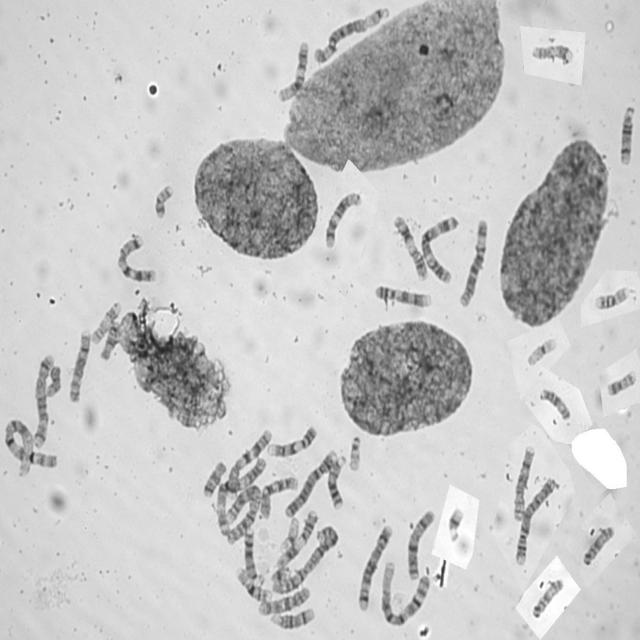A1: (378, 559, 432, 628), (2, 416, 60, 478)
A2: (269, 522, 341, 595), (223, 482, 263, 546)
A3: (215, 455, 267, 538), (418, 212, 460, 285)
B4: (512, 473, 556, 568), (282, 446, 339, 519)
B5: (356, 520, 394, 612), (31, 350, 55, 450)
C10: (258, 474, 298, 520), (256, 584, 311, 616)
C11: (274, 506, 320, 568), (391, 212, 429, 281)
C12: (322, 189, 363, 250), (276, 38, 310, 104)
C6: (457, 216, 490, 308), (314, 18, 366, 66)
C7: (223, 426, 274, 500), (114, 232, 158, 285)
C8: (66, 325, 92, 405), (511, 442, 536, 523)
C9: (265, 422, 319, 459), (372, 282, 433, 309)
D13: (326, 451, 346, 510), (242, 525, 258, 582)
D14: (268, 605, 315, 630), (617, 102, 635, 166)
D15: (530, 576, 564, 620), (582, 524, 616, 567), (537, 386, 571, 421), (97, 319, 122, 362)
E16: (235, 564, 272, 603), (592, 283, 631, 311)
E17: (89, 297, 122, 346), (531, 44, 574, 67)
E18: (200, 458, 228, 500), (43, 362, 62, 398)
F19: (524, 335, 558, 367), (278, 514, 300, 552)
F20: (606, 369, 637, 397), (152, 181, 174, 219)
G21: (445, 505, 465, 544), (270, 564, 293, 586)
G22: (364, 6, 391, 29), (347, 432, 362, 472)
X: (405, 506, 436, 582)
